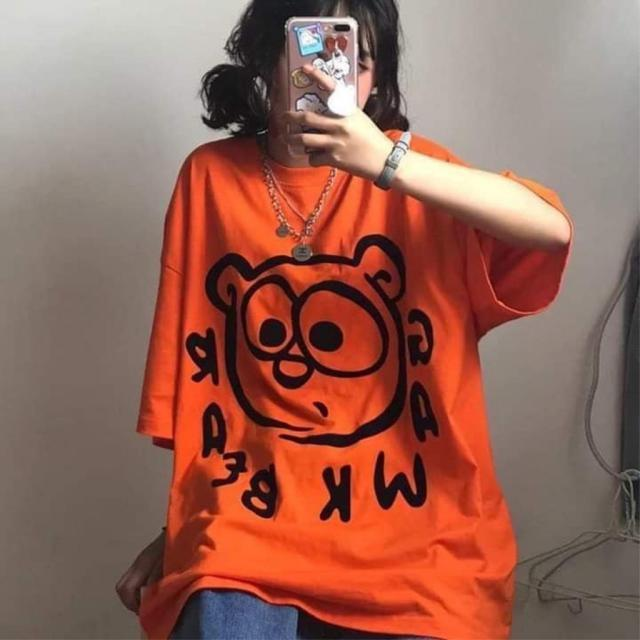Shirt: (140, 123, 582, 640)
